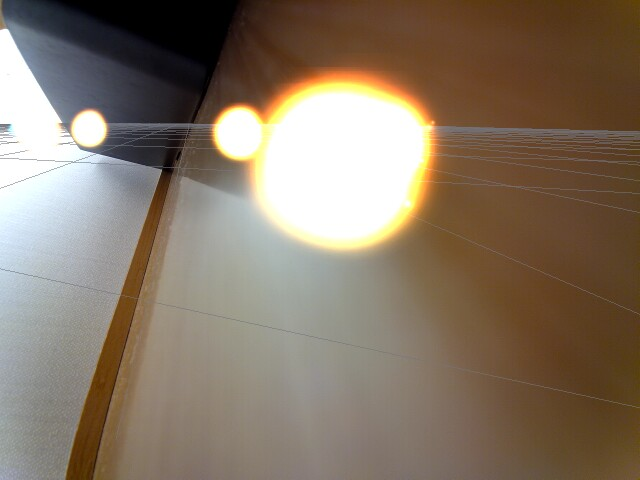firebig: (259, 35, 436, 265)
